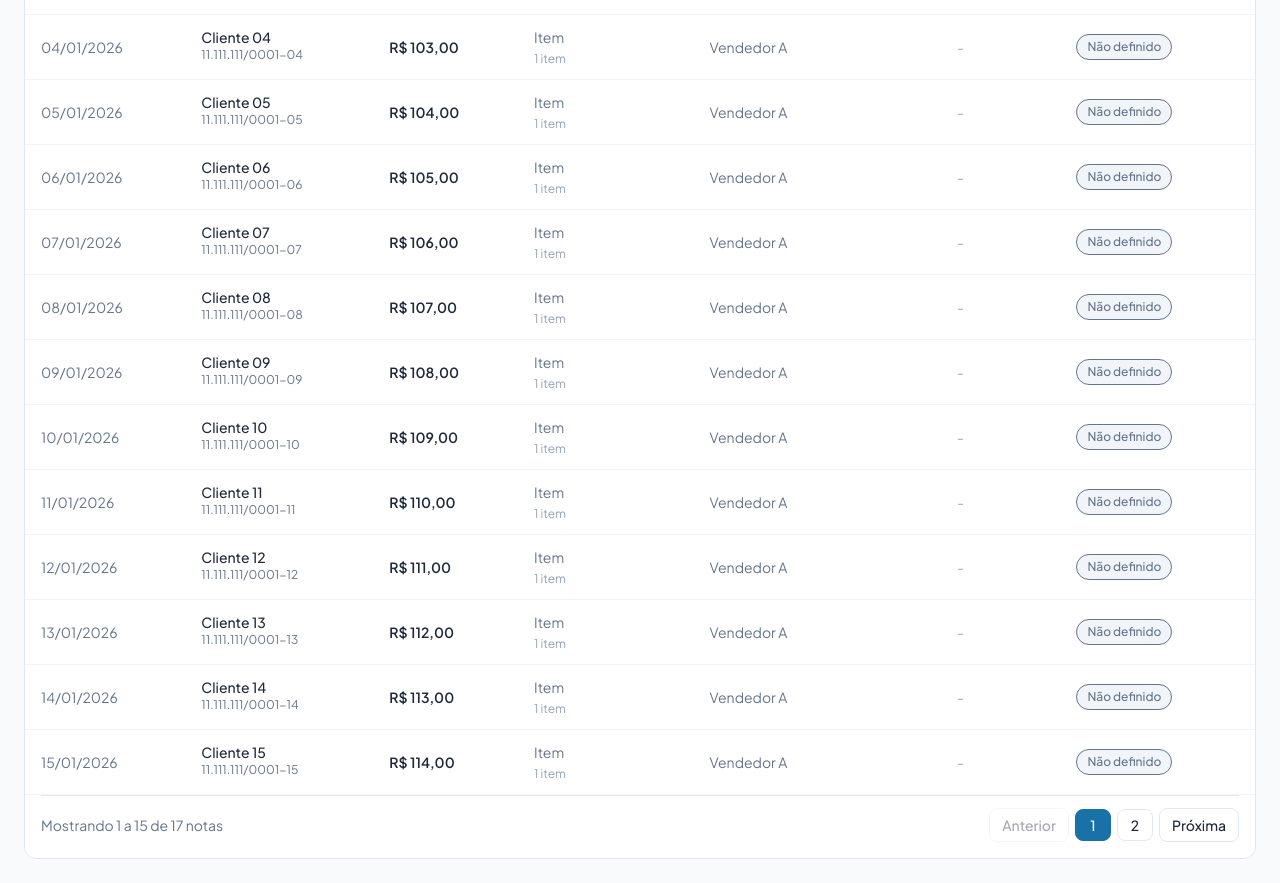
Test: paginacao em Vendedores › filtrar volta para a primeira pagina
(page scrolled)
Click the button "Próxima": click(1199, 825) [1159,808,1239,842]
(page scrolled)
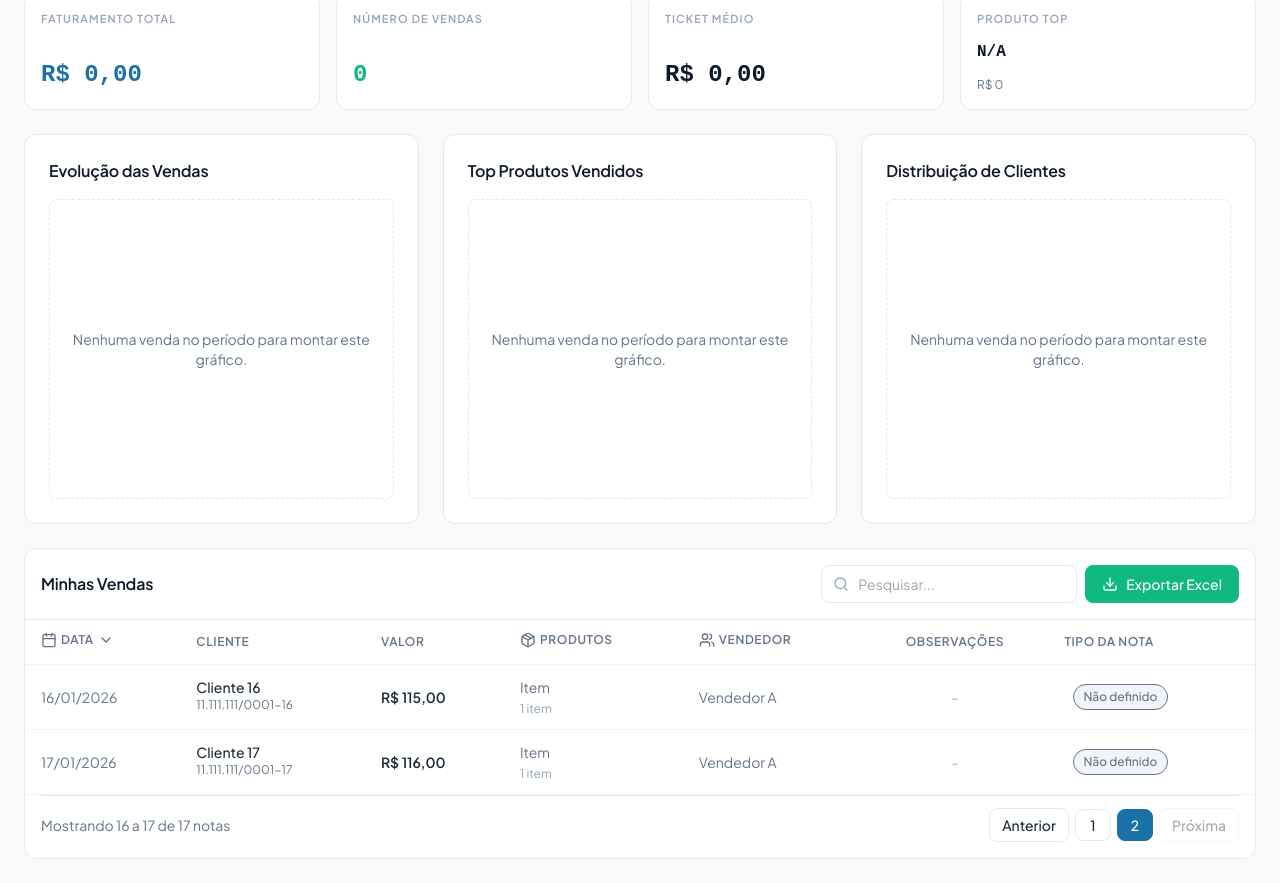
Result: the text "Mostrando 16 a 17 de 17 notas" is shown at [41,815,230,835]
In the field with placeholder "Pesquisar...": (949, 584) [821,565,1077,603], type "Cliente 0"
(page scrolled)
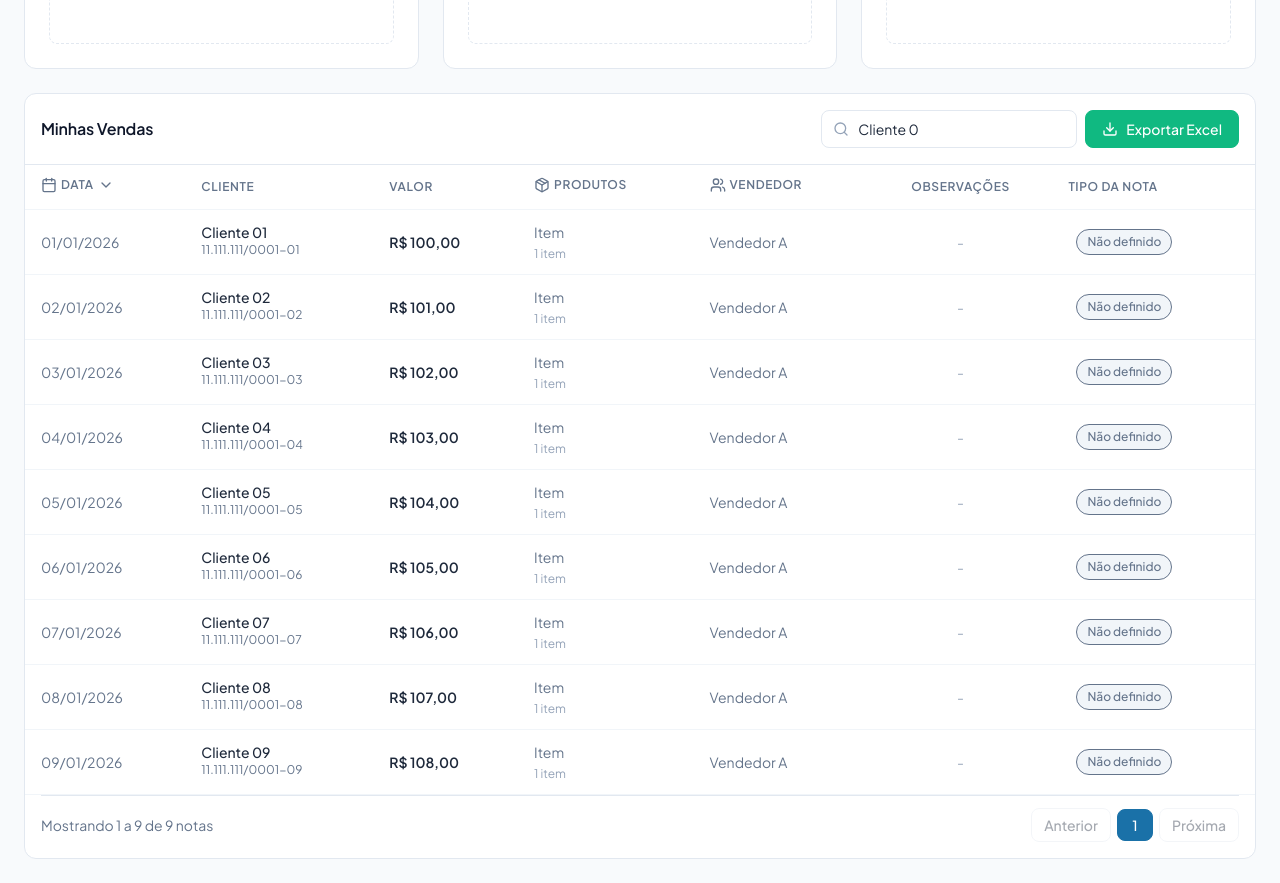
Result: the text "Mostrando 1 a 9 de 9 notas" is shown at [41,815,213,835]
Result: the row that starts with "Cliente 01" is shown at [25,210,1255,274]
